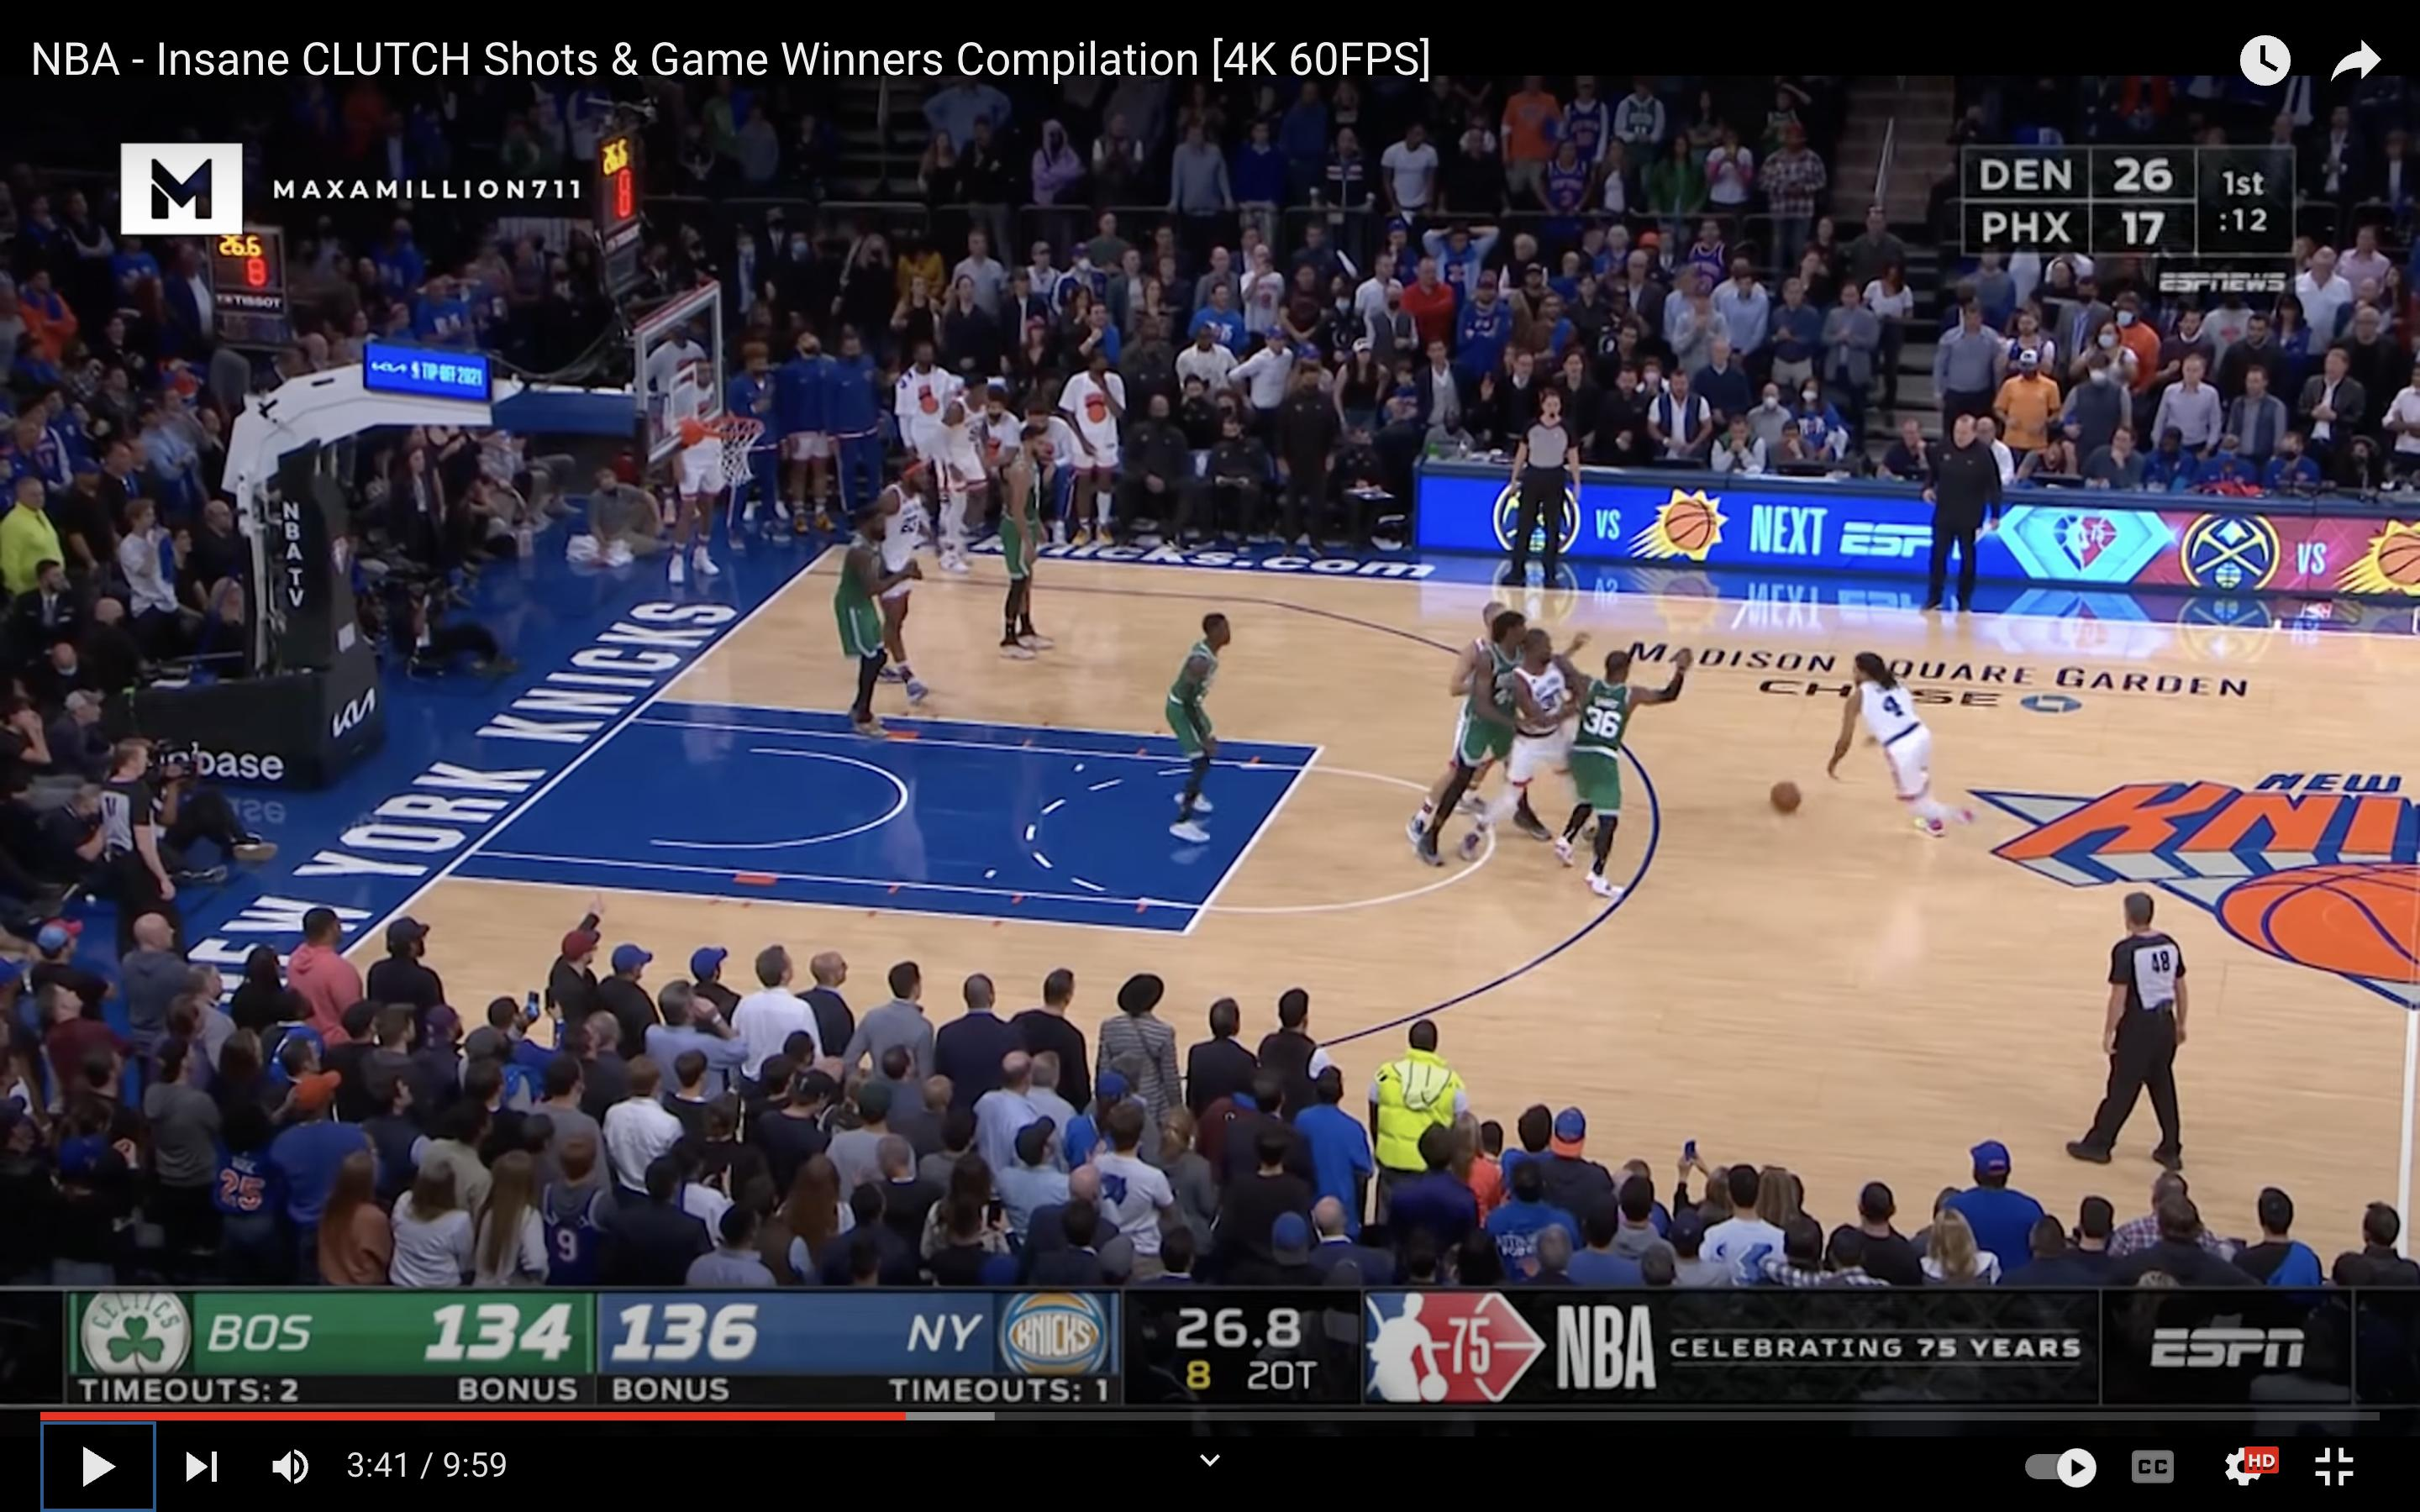Backboard: (638, 281, 725, 463)
Ball: (1770, 780, 1802, 814)
Basket: (695, 410, 765, 501)
Dribble: (1774, 806, 1803, 819)
Person: (1548, 651, 1706, 906), (1817, 645, 1980, 842), (1481, 620, 1589, 868), (987, 420, 1095, 659), (823, 494, 907, 747), (1160, 595, 1236, 853), (867, 454, 931, 710), (1462, 603, 1512, 850)
Referee: (2061, 884, 2203, 1172), (1485, 390, 1592, 590), (97, 731, 191, 952)
Shot Clock: (582, 130, 655, 312), (206, 218, 292, 360)
